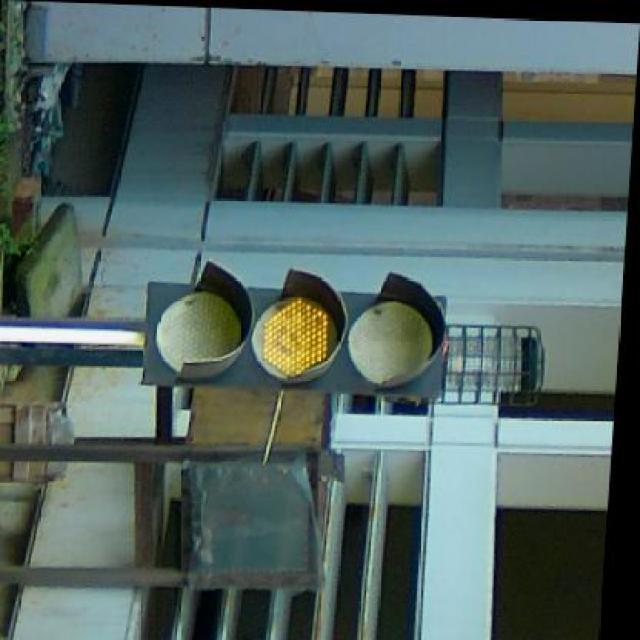yellow_light: (143, 253, 446, 403)
